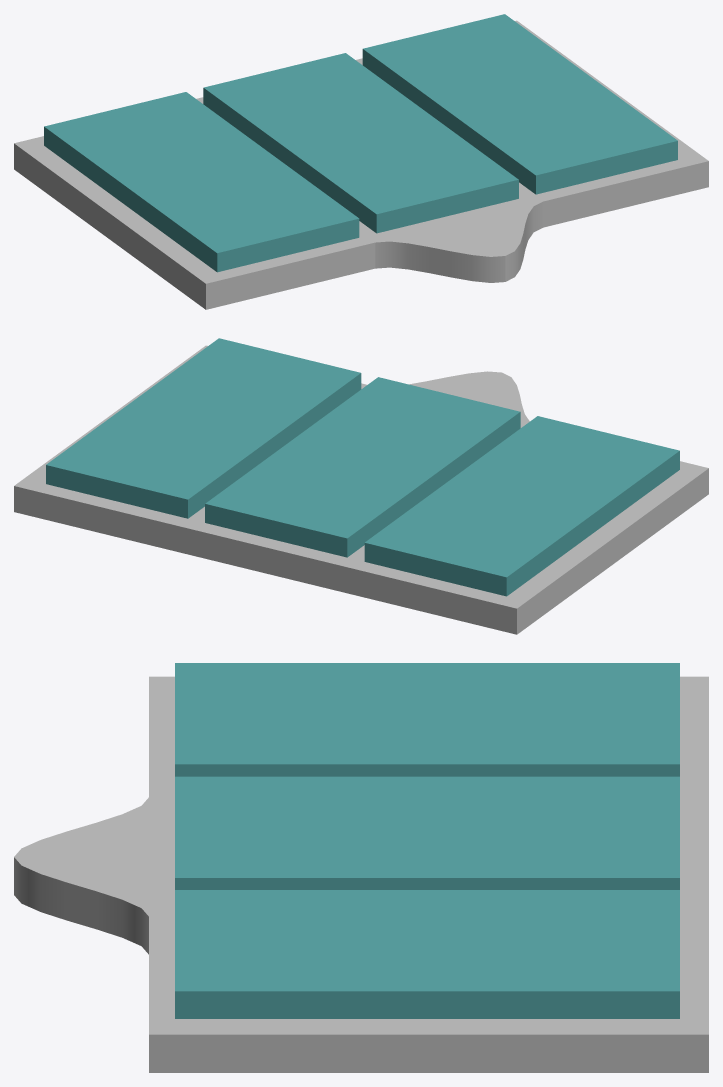
The model's file is LongHolding.FBX.
3 views of the same model, one above another, from view 1: azimuth 30°, elevation 25°; view 2: azimuth 150°, elevation 25°; view 3: azimuth 270°, elevation 25° (orthographic). The views are drawn at different scales.
Parts seen in each view (by area): view 1: BackFrame, Rectangle001, Rectangle002, Rectangle003; view 2: BackFrame, Rectangle001, Rectangle002, Rectangle003; view 3: Rectangle003, BackFrame, Rectangle001, Rectangle002.
Part boxes in pixels (x1,y1,x2,y2): BackFrame: (14, 20, 708, 309); Rectangle001: (44, 92, 359, 272); Rectangle002: (203, 53, 518, 233); Rectangle003: (362, 14, 677, 194); BackFrame: (14, 345, 708, 634); Rectangle001: (364, 416, 679, 596); Rectangle002: (205, 377, 520, 557); Rectangle003: (46, 338, 361, 518); Rectangle003: (175, 890, 679, 1018); BackFrame: (14, 676, 708, 1072); Rectangle001: (175, 663, 679, 776); Rectangle002: (175, 776, 679, 889).
Bounding box in the file's own units: 30.26 × 2.6 × 24.82.
